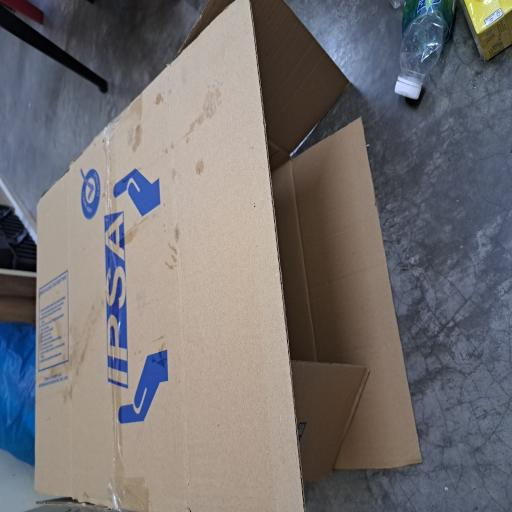cardboard: (0, 48, 384, 512)
